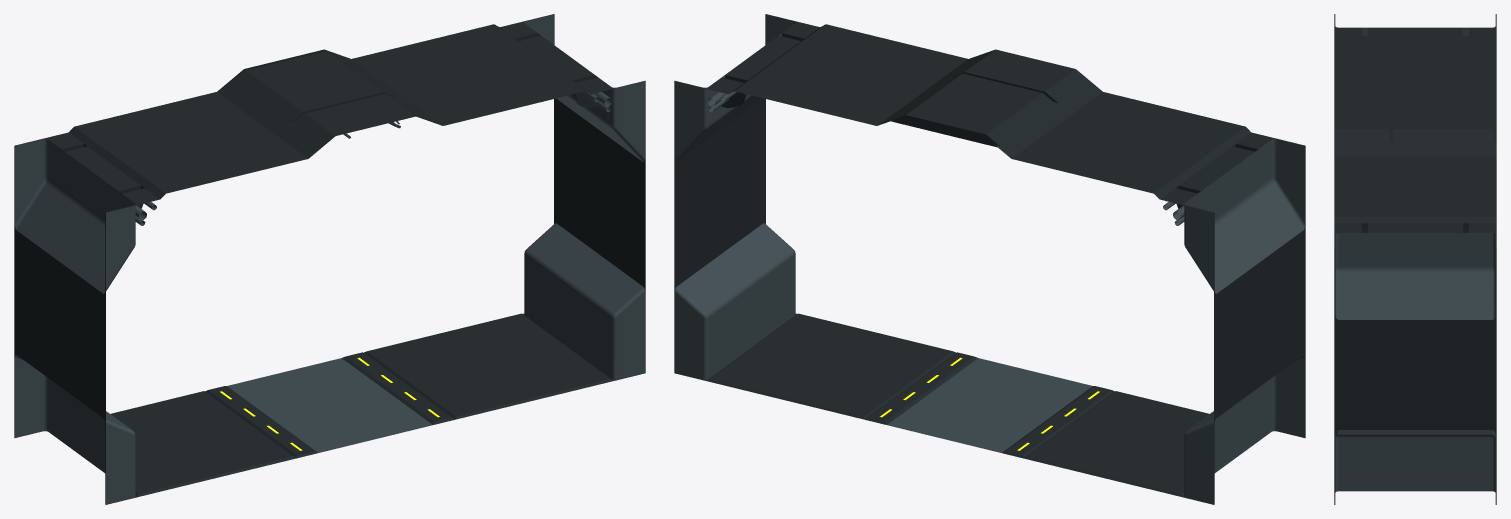
Rendered from hallway01.fbx.
3 views of the same model, side by side, from view 1: azimuth 30°, elevation 25°; view 2: azimuth 150°, elevation 25°; view 3: azimuth 270°, elevation 25° (orthographic). The views are drawn at different scales.
Visible parts, largest first — view 1: hallway01; view 2: hallway01; view 3: hallway01.
Boxes of the visible parts, x1,y1,x2,y2 form: hallway01: [14, 14, 645, 504]; hallway01: [674, 14, 1305, 504]; hallway01: [1334, 14, 1496, 504].
Size of what is drawn, in the model's own units: 6.8 by 2 by 3.77.
